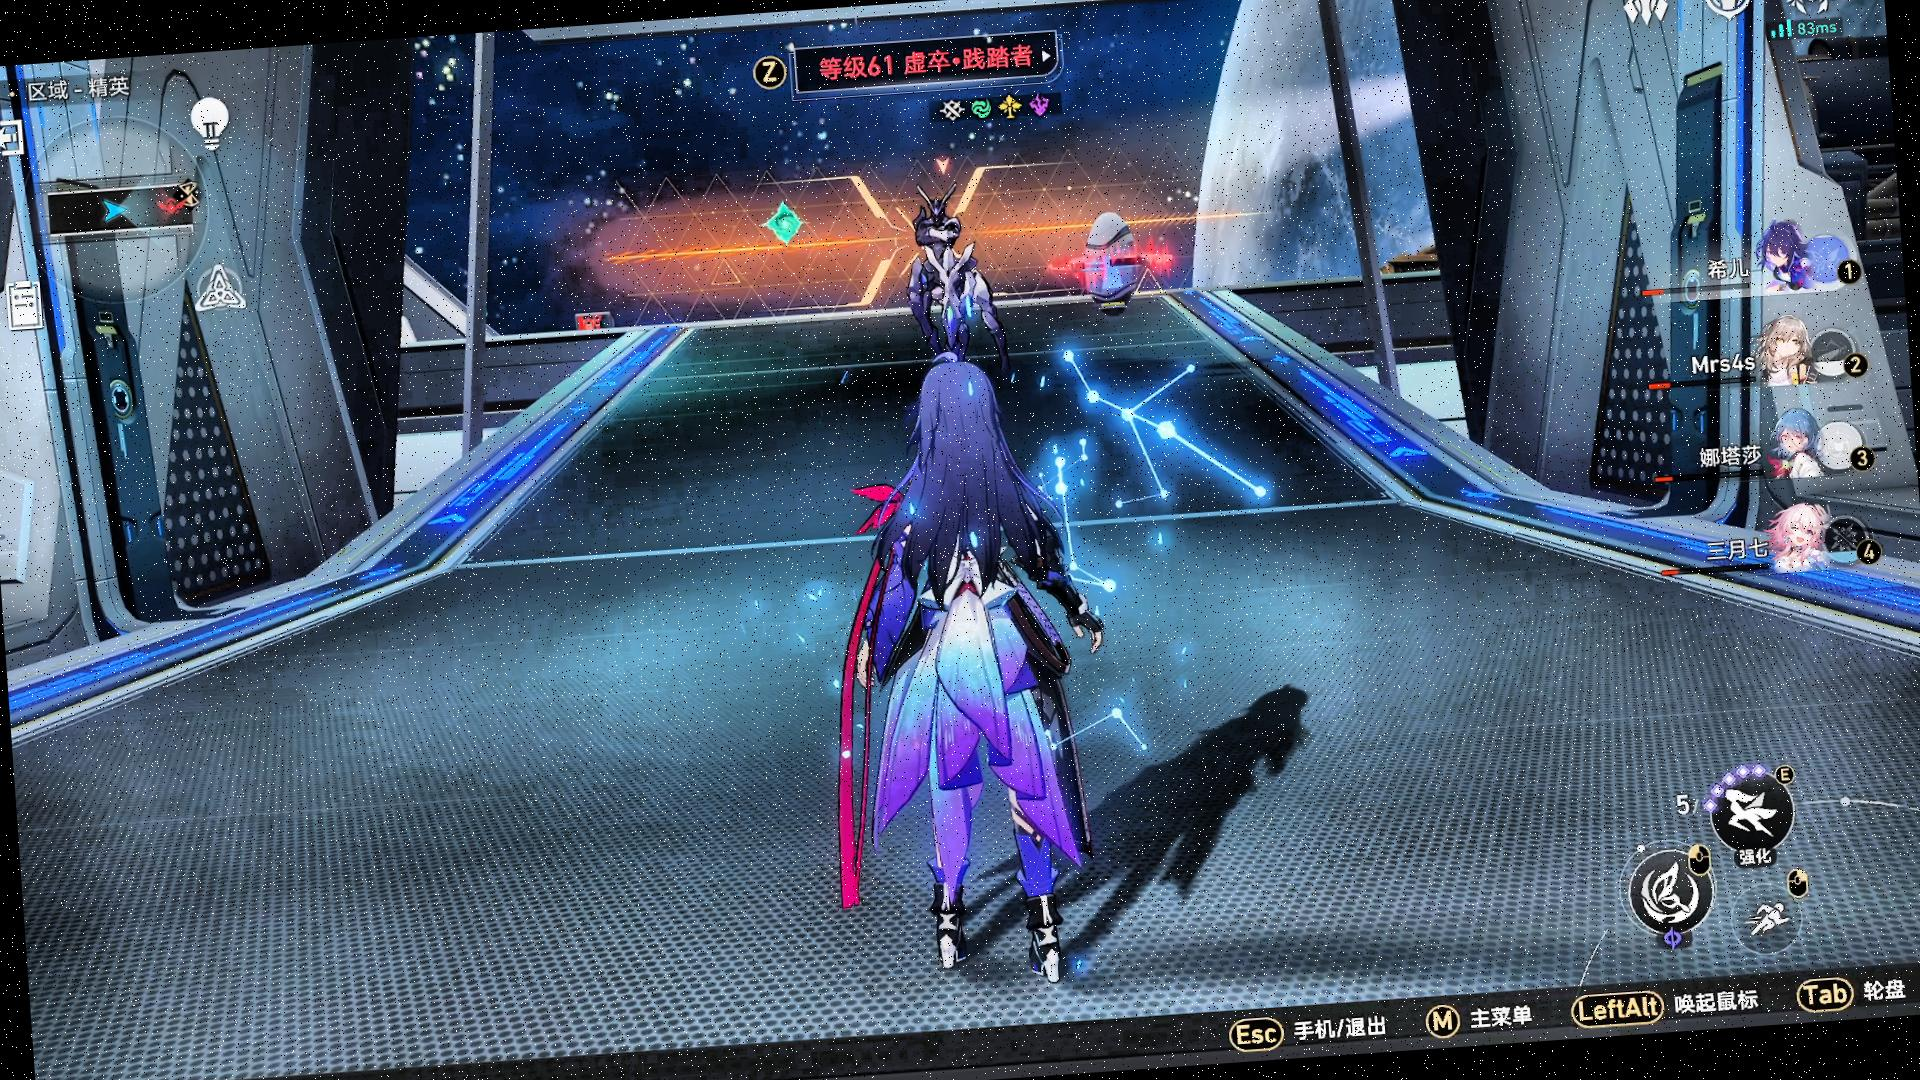Enemy: (891, 177, 1014, 377)
SafeDoor: (758, 196, 816, 255)
Self: (806, 348, 1130, 1021)
